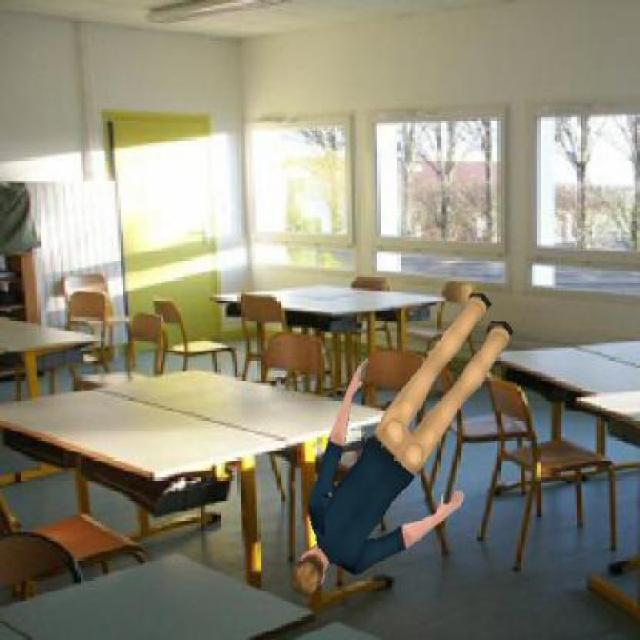Person: (289, 289, 516, 597)
